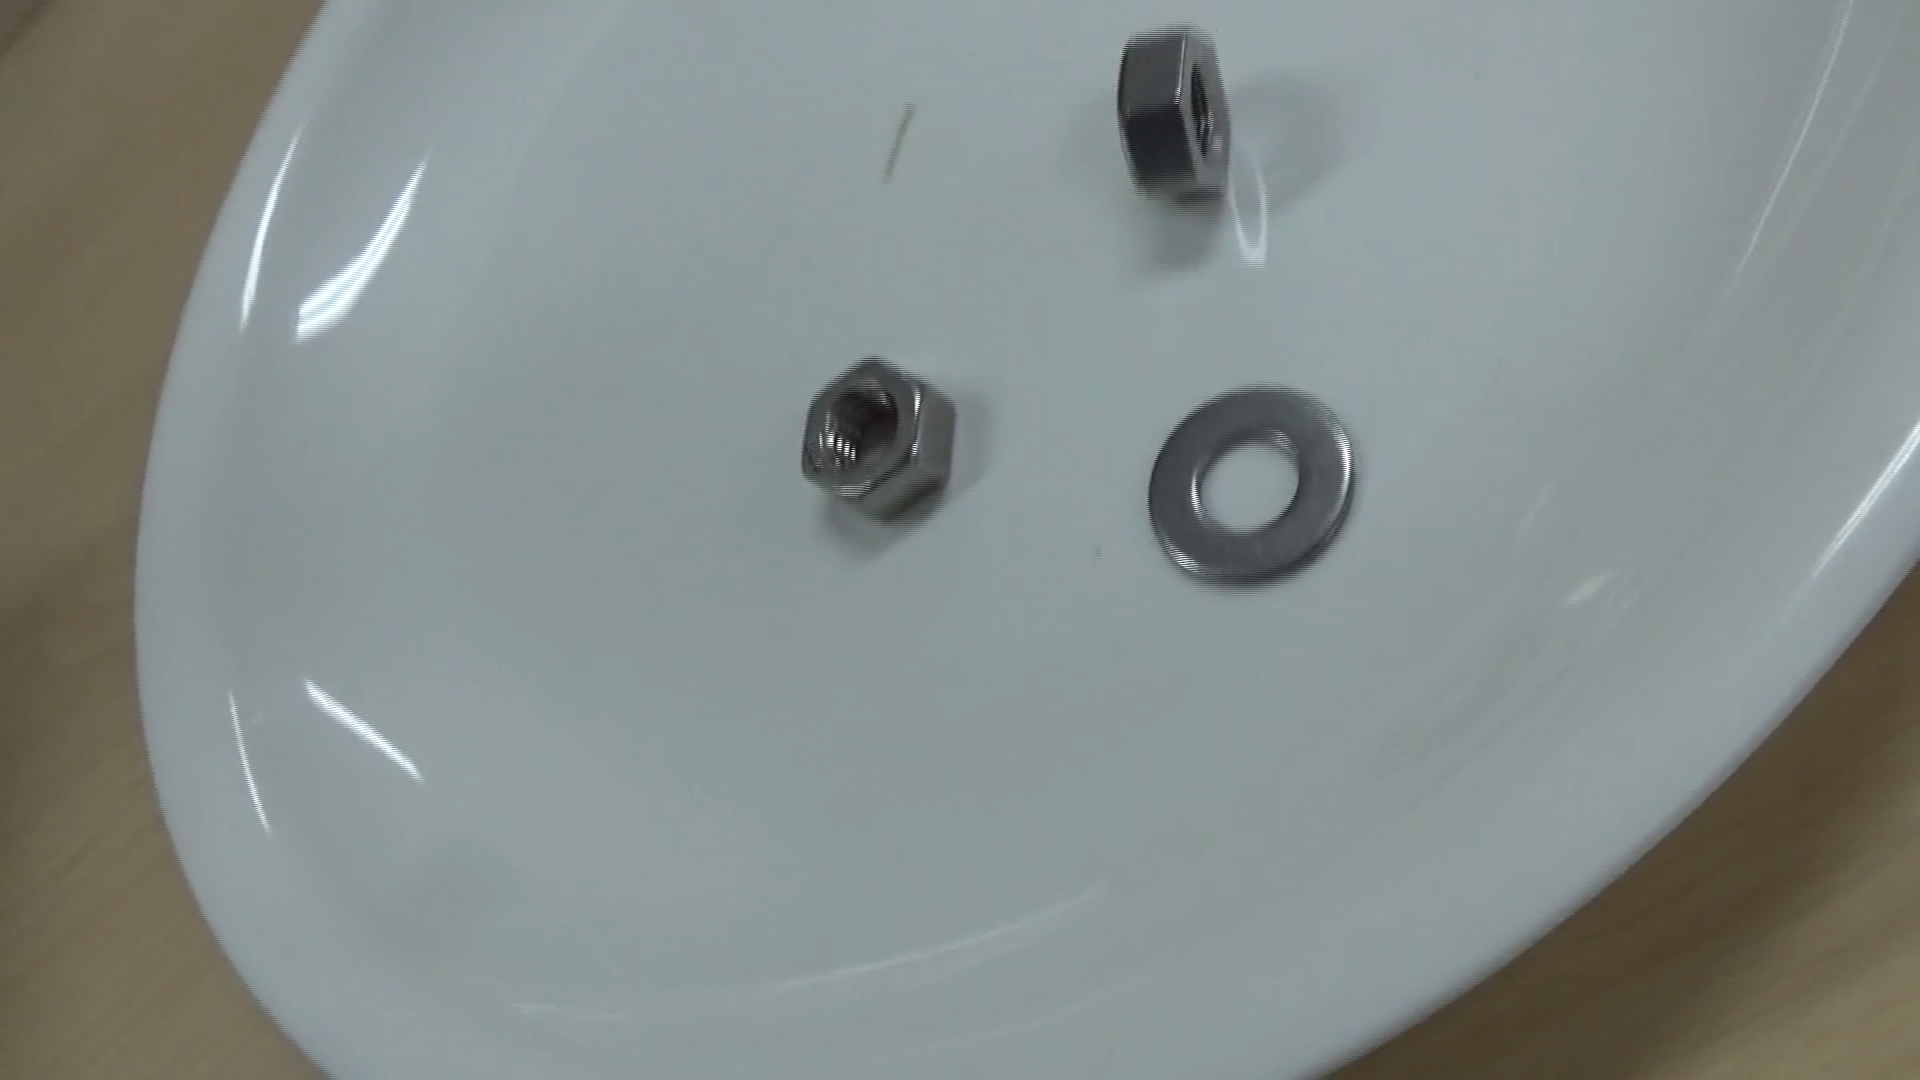nut: (771, 334, 982, 563), (1085, 21, 1251, 212)
washer: (1110, 327, 1379, 611)
